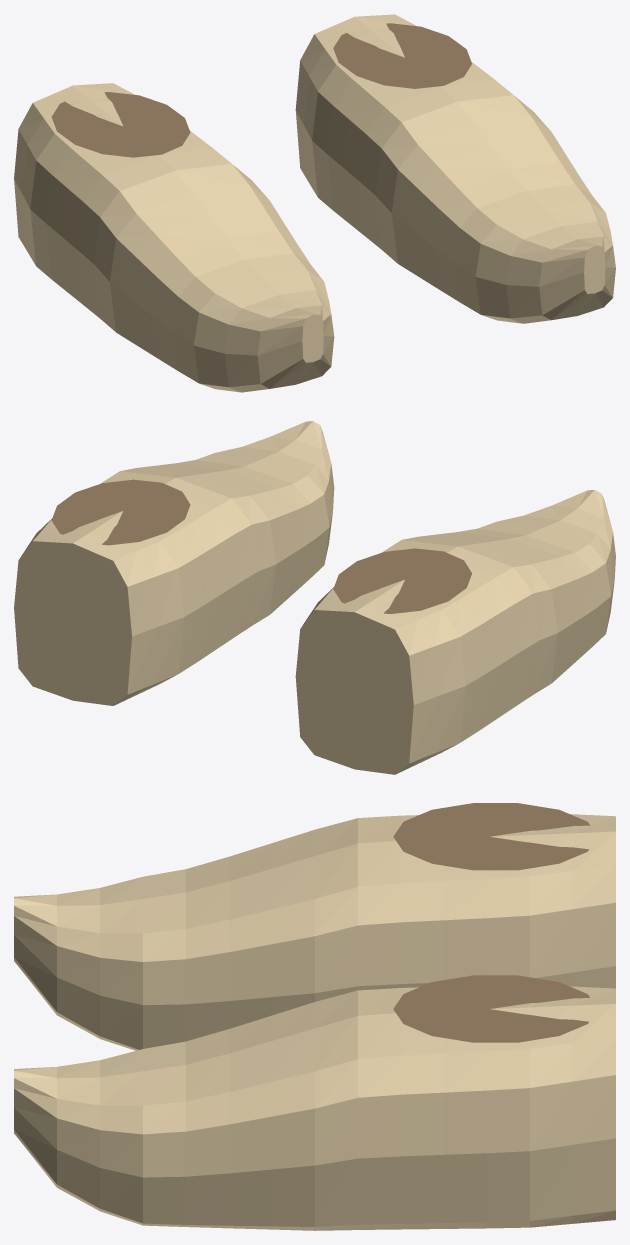
Rendered from clogs.glb.
3 renders of one model, top to bottom at view 1: azimuth 30°, elevation 25°; view 2: azimuth 150°, elevation 25°; view 3: azimuth 270°, elevation 25°, orthographic. The views are drawn at different scales.
Parts seen in each view (by area): view 1: Leg.L.Lower.Clog, Leg.R.Lower.Clog, Leg.L.Lower.Clog.Opening, Leg.R.Lower.Clog.Opening; view 2: Leg.L.Lower.Clog, Leg.R.Lower.Clog, Leg.R.Lower.Clog.Opening, Leg.L.Lower.Clog.Opening; view 3: Leg.L.Lower.Clog, Leg.R.Lower.Clog, Leg.L.Lower.Clog.Opening, Leg.R.Lower.Clog.Opening.
Part boxes in pixels (x1,y1,x2,y2): Leg.L.Lower.Clog: (295, 14, 615, 323); Leg.R.Lower.Clog: (14, 83, 334, 392); Leg.L.Lower.Clog.Opening: (333, 23, 471, 88); Leg.R.Lower.Clog.Opening: (51, 92, 190, 157); Leg.L.Lower.Clog: (14, 421, 334, 705); Leg.R.Lower.Clog: (295, 490, 615, 774); Leg.R.Lower.Clog.Opening: (333, 548, 471, 613); Leg.L.Lower.Clog.Opening: (51, 479, 190, 545); Leg.L.Lower.Clog: (14, 986, 615, 1230); Leg.R.Lower.Clog: (14, 814, 615, 1050); Leg.L.Lower.Clog.Opening: (393, 975, 589, 1042); Leg.R.Lower.Clog.Opening: (393, 803, 589, 870).
Bounding box in the file's own units: 0.334 × 0.112 × 0.31.
